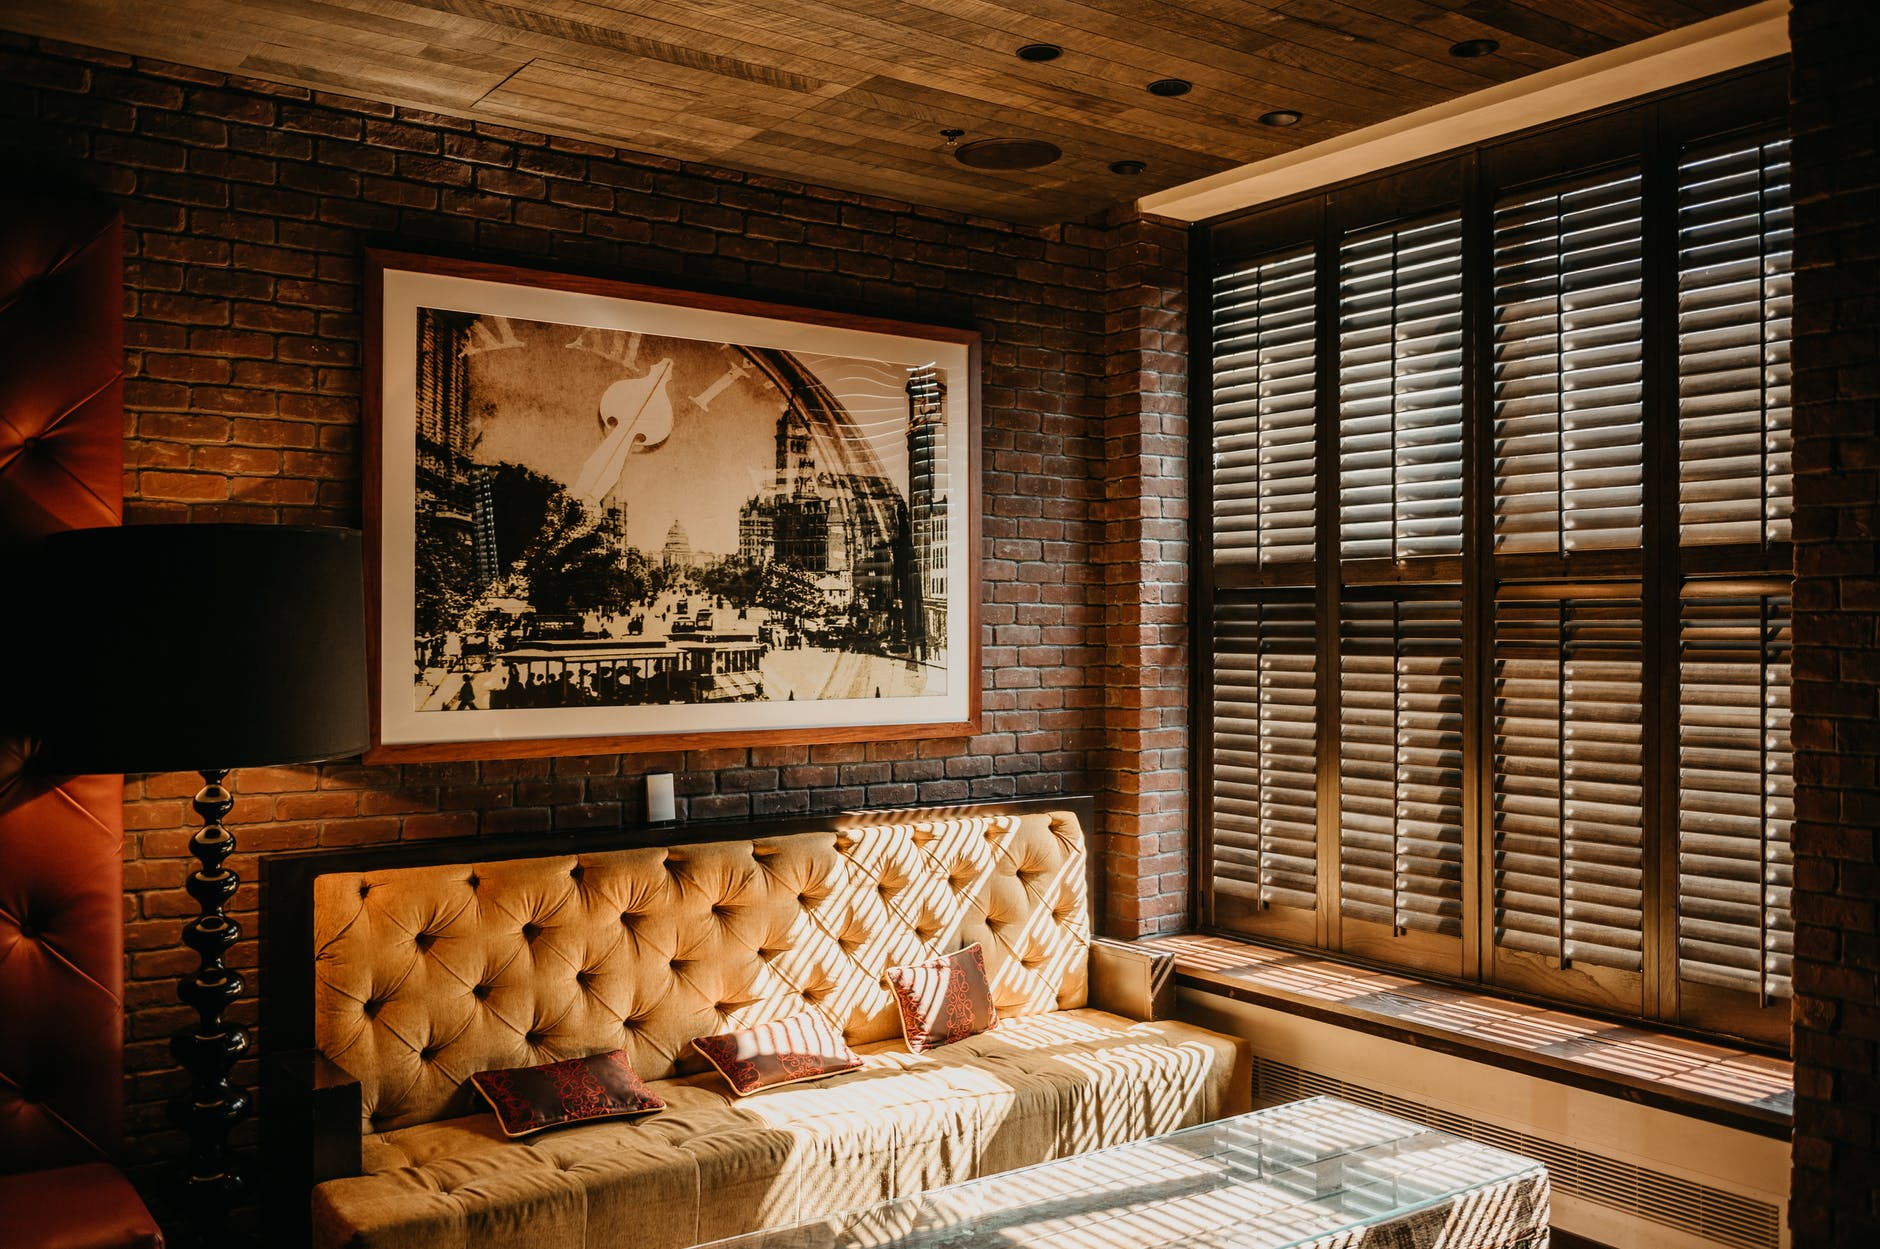bantal: (488, 1045, 661, 1119), (701, 1015, 861, 1087), (888, 953, 1003, 1043)
lampu: (33, 514, 379, 1107)
lukisan: (373, 263, 989, 735)
meja: (739, 1087, 1557, 1249)
sova: (261, 797, 1240, 1154)
